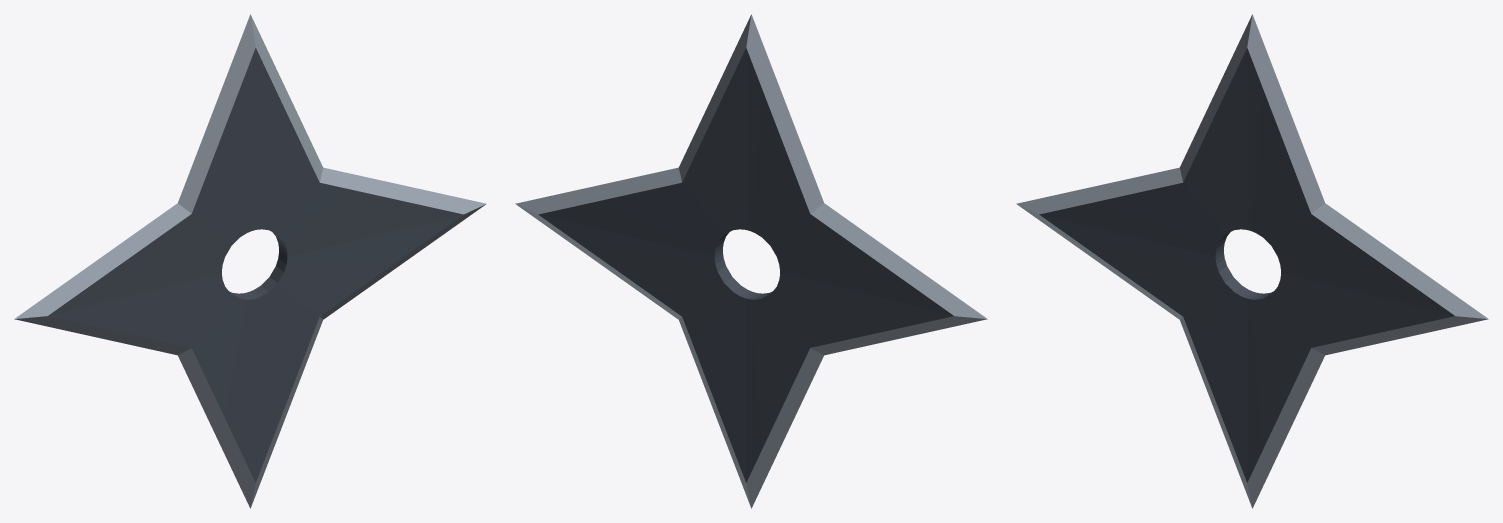
File: Shuriken.fbx
The picture shows the model from 3 angles, left to right: view 1: azimuth 30°, elevation 25°; view 2: azimuth 150°, elevation 25°; view 3: azimuth 330°, elevation 25°; orthographic projection.
Visible parts, largest first — view 1: Four point shuriken; view 2: Four point shuriken; view 3: Four point shuriken.
Boxes of the visible parts, x1,y1,x2,y2 form: Four point shuriken: (14, 14, 486, 508); Four point shuriken: (515, 14, 987, 508); Four point shuriken: (1016, 14, 1488, 508).
Bounding box in the file's own units: 26 × 26 × 1.
